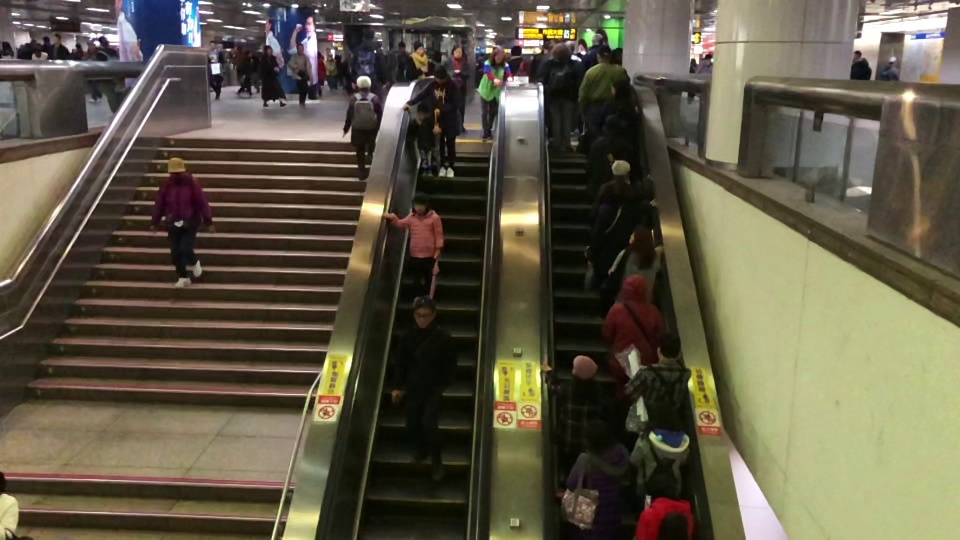person_head: (650, 398, 683, 431), (645, 470, 676, 502), (583, 419, 612, 452), (615, 273, 649, 301), (410, 294, 436, 328), (655, 330, 682, 361), (571, 353, 597, 381), (627, 224, 653, 247), (600, 184, 625, 204), (610, 158, 631, 180), (610, 78, 630, 99), (165, 155, 185, 175), (551, 44, 570, 64), (604, 114, 623, 134), (410, 192, 428, 213), (594, 45, 612, 65), (355, 75, 371, 92), (414, 103, 431, 119), (590, 31, 605, 48), (433, 64, 446, 82), (492, 47, 506, 63), (412, 39, 424, 55), (362, 25, 375, 39), (452, 44, 464, 59), (510, 44, 521, 58), (887, 54, 898, 67), (98, 36, 109, 48), (51, 32, 61, 45), (1, 40, 12, 50), (208, 39, 217, 50), (264, 45, 273, 55), (397, 41, 406, 51), (296, 43, 304, 54), (33, 42, 41, 52), (853, 49, 861, 59), (87, 42, 96, 50), (317, 50, 323, 57), (690, 58, 697, 64), (705, 52, 711, 58), (327, 53, 333, 58)
person_vbox: (391, 294, 459, 484), (147, 156, 217, 290), (585, 184, 650, 322), (601, 273, 667, 401), (564, 418, 630, 537), (538, 353, 607, 460), (402, 65, 464, 180), (624, 330, 692, 434), (383, 191, 444, 300), (630, 398, 691, 499), (342, 74, 383, 182), (587, 157, 653, 223), (633, 469, 694, 540), (577, 44, 630, 125), (607, 223, 663, 298), (585, 112, 641, 185), (547, 44, 579, 154), (478, 45, 512, 143), (351, 25, 390, 89), (594, 78, 639, 130), (446, 43, 472, 132), (258, 44, 290, 109), (94, 34, 119, 113), (412, 103, 437, 178), (287, 43, 313, 108), (82, 41, 102, 105), (405, 39, 435, 80), (580, 31, 606, 78), (206, 38, 225, 99), (849, 49, 871, 80), (324, 53, 340, 88), (48, 33, 69, 59), (880, 53, 899, 80), (695, 50, 713, 76), (317, 50, 327, 95), (687, 58, 697, 103), (31, 42, 47, 59)
